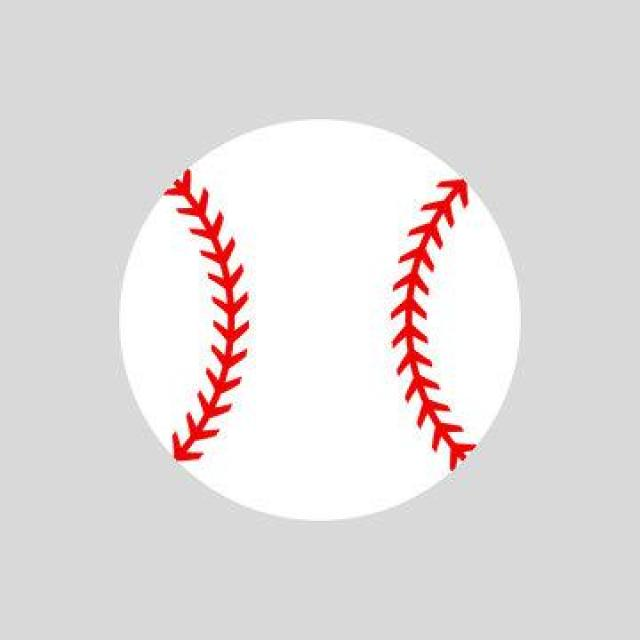ball: (112, 113, 527, 528)
